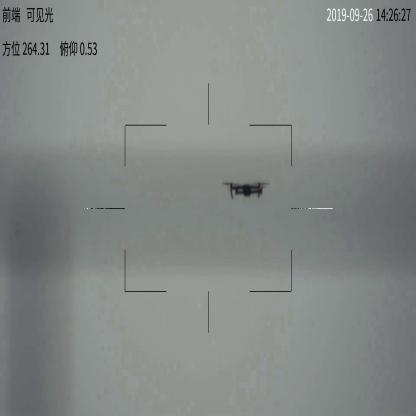uav: (224, 178, 270, 201)
